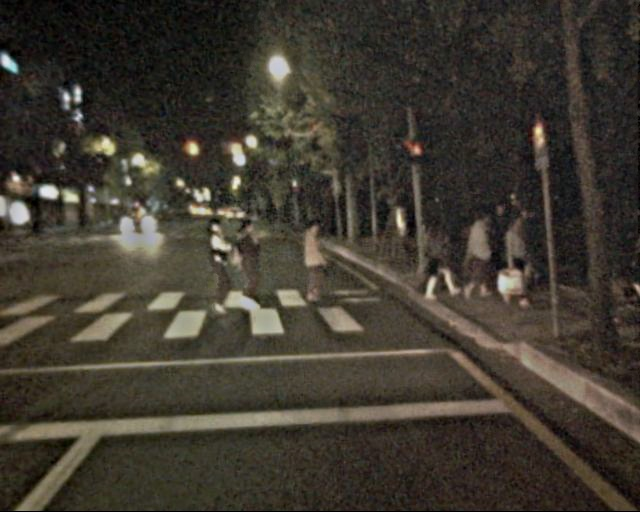person: (195, 218, 235, 316), (498, 217, 535, 307), (420, 214, 456, 303), (229, 221, 265, 308), (462, 216, 498, 303), (296, 220, 329, 301), (484, 203, 517, 283), (515, 207, 547, 286)
